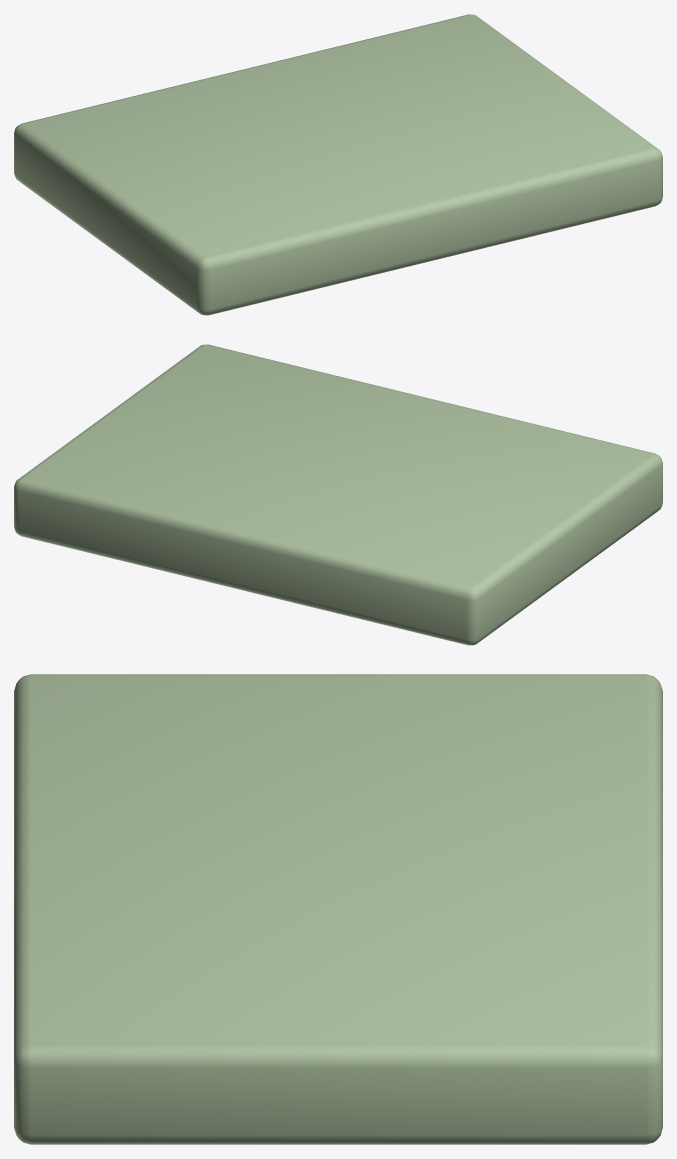
File: lunch-tray.glb
3 views of the same model, one above another, from view 1: azimuth 30°, elevation 25°; view 2: azimuth 150°, elevation 25°; view 3: azimuth 270°, elevation 25° (orthographic). The views are drawn at different scales.
Parts seen in each view (by area): view 1: body.010; view 2: body.010; view 3: body.010.
Boxes of the visible parts, x1,y1,x2,y2 form: body.010: [14, 14, 662, 315]; body.010: [14, 344, 662, 645]; body.010: [14, 674, 662, 1144].
Size of the model in its own units: 0.42 by 0.05 by 0.3.
